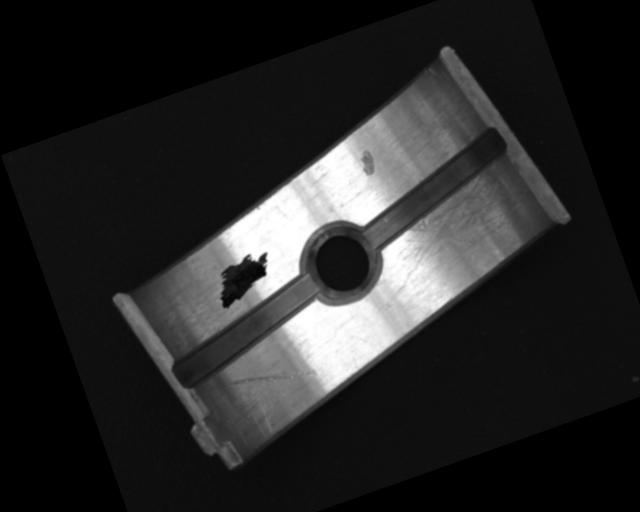blot: (208, 246, 281, 312)
bruise: (356, 147, 378, 177)
gap: (343, 124, 525, 255), (156, 269, 337, 391)
hole: (294, 213, 392, 311)
nick: (227, 352, 318, 404)
scratch: (369, 159, 540, 293)
